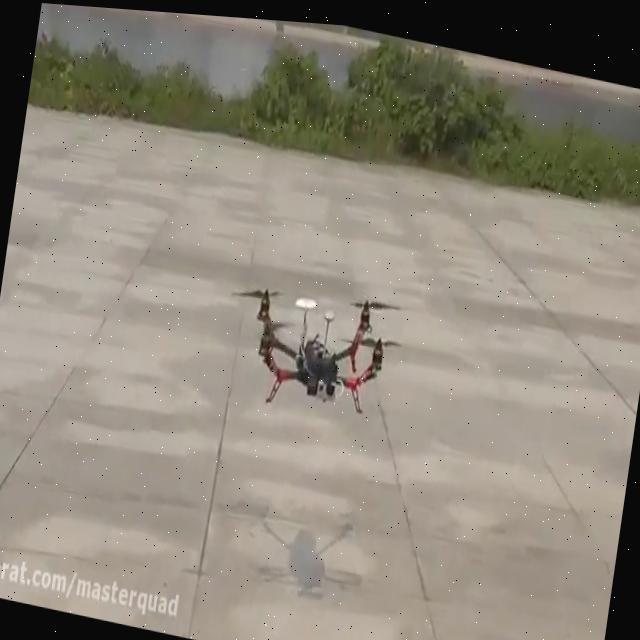drone: (216, 256, 411, 425)
